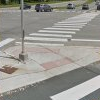crosswalk: (15, 16, 94, 47)
